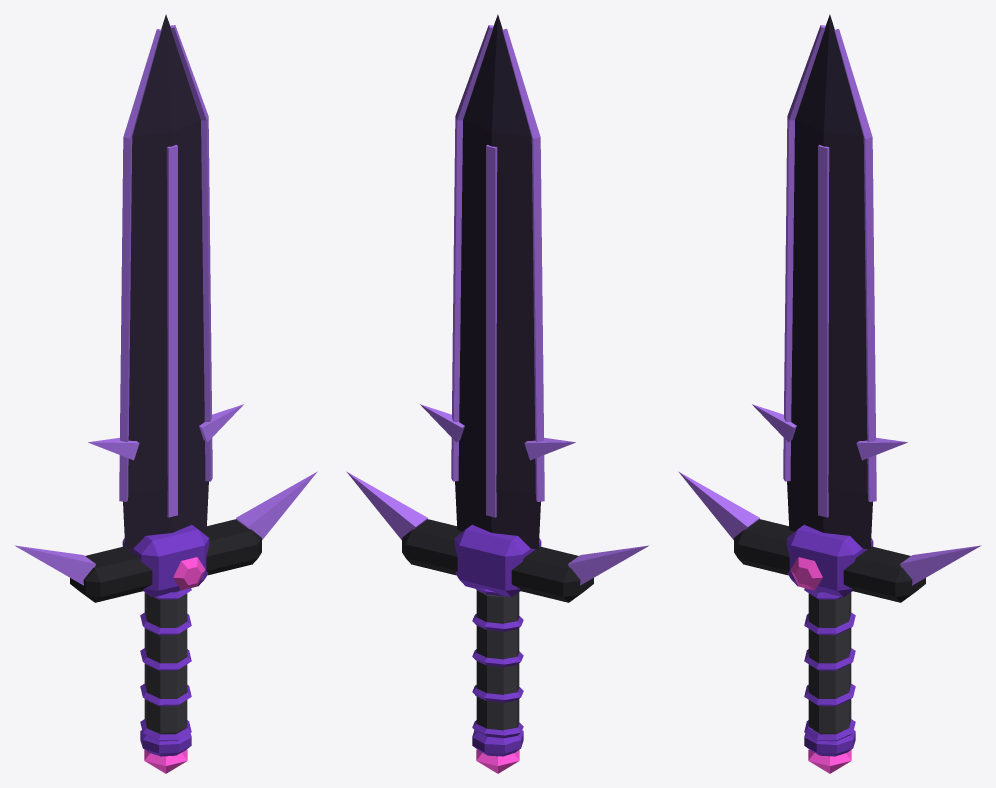
Rendered from ShadowSword.fbx.
3 views of the same model, side by side, from view 1: azimuth 30°, elevation 25°; view 2: azimuth 150°, elevation 25°; view 3: azimuth 330°, elevation 25° (orthographic).
Parts seen in each view (by area): view 1: ShadowSword; view 2: ShadowSword; view 3: ShadowSword.
Part boxes in pixels (bbox=[...]): ShadowSword: bbox=[14, 14, 317, 773]; ShadowSword: bbox=[346, 14, 649, 773]; ShadowSword: bbox=[678, 14, 981, 773].
Size of the model in its own units: 2.24 by 5.35 by 0.54.
1 material, 1 textured.
